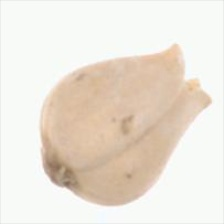L1: (171, 42, 212, 105), (40, 140, 76, 193)
L2: (38, 43, 212, 206)
